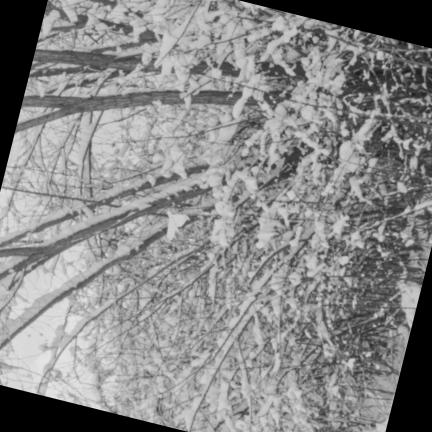Shahed: (166, 210, 189, 240)
